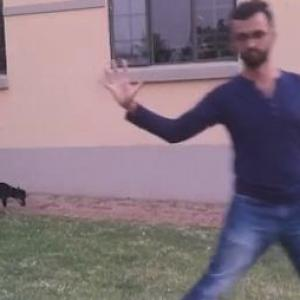follow_hand: (91, 56, 149, 107)
